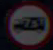Heavy Vehicles: (2, 5, 46, 38)
